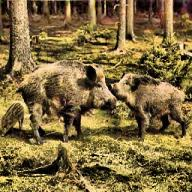boar: (14, 58, 118, 144), (109, 72, 191, 142), (0, 100, 25, 136)
